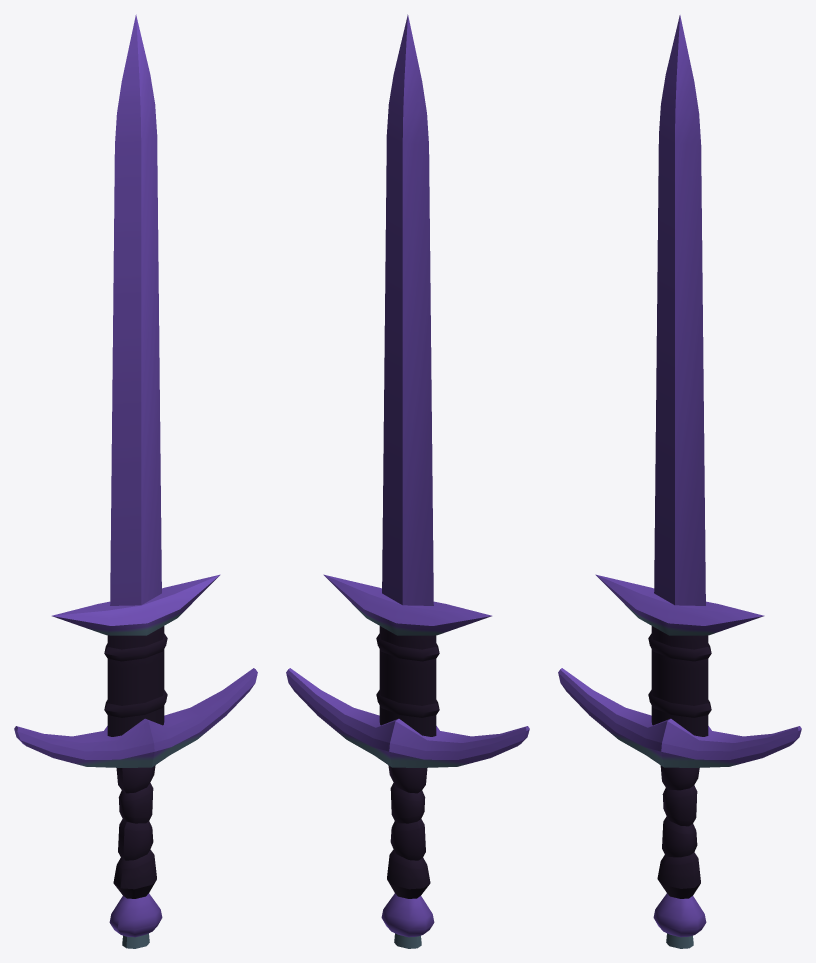
Rendered from kk_weapons_abime_epee.glb.
The picture shows the model from 3 angles, left to right: view 1: azimuth 30°, elevation 25°; view 2: azimuth 150°, elevation 25°; view 3: azimuth 330°, elevation 25°; orthographic projection.
Parts seen in each view (by area): view 1: sword_E; view 2: sword_E; view 3: sword_E.
Boxes of the visible parts, x1=… form: sword_E: x1=14, y1=14, x2=257, y2=948; sword_E: x1=286, y1=14, x2=529, y2=948; sword_E: x1=558, y1=15, x2=801, y2=948.
Size of the model in its own units: 0.8793 by 3.25 by 0.237.
1 material, 1 textured.
